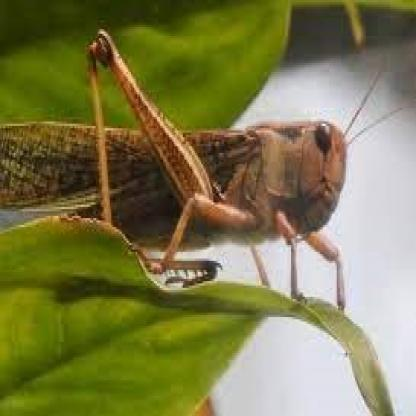grasshopper: (0, 26, 395, 324)
